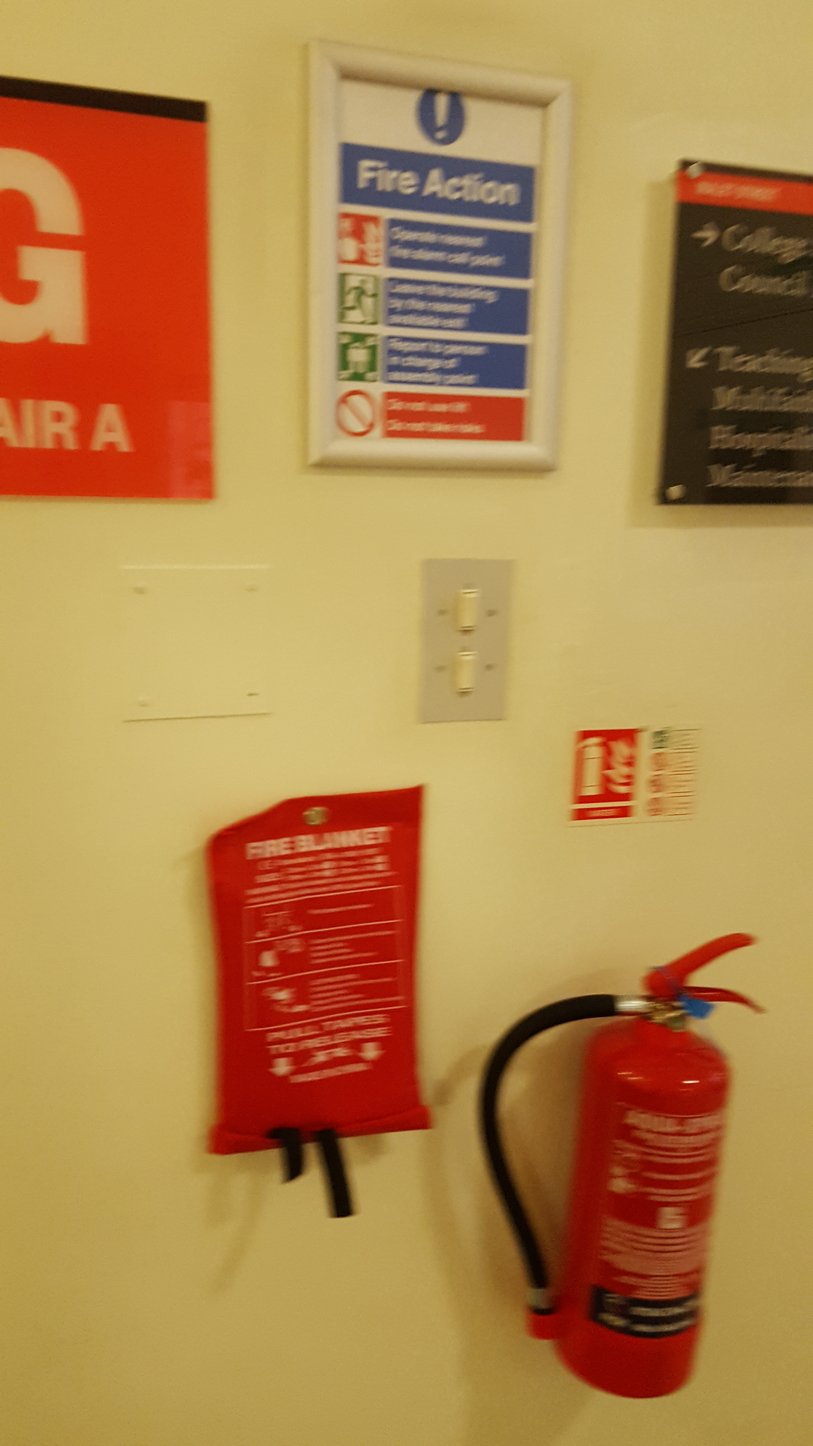fire_extinguisher: (478, 931, 767, 1400)
